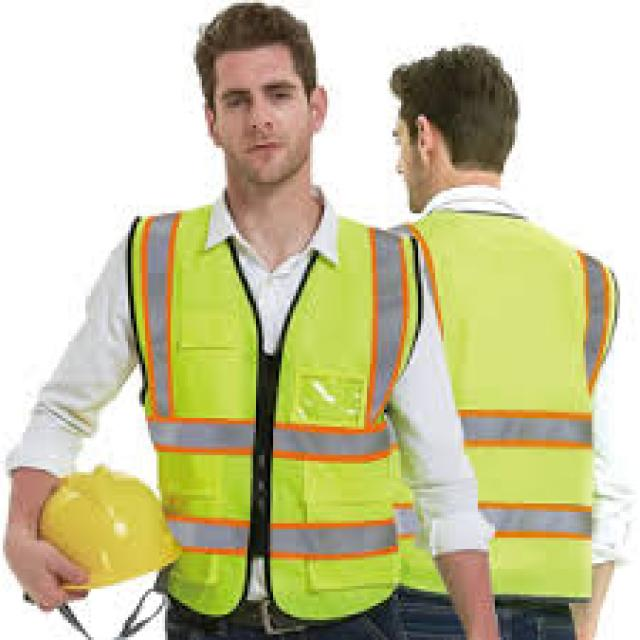Reflective-Jacket: (111, 205, 449, 626), (415, 194, 629, 620)
Safety-Helmet: (29, 459, 185, 596)
